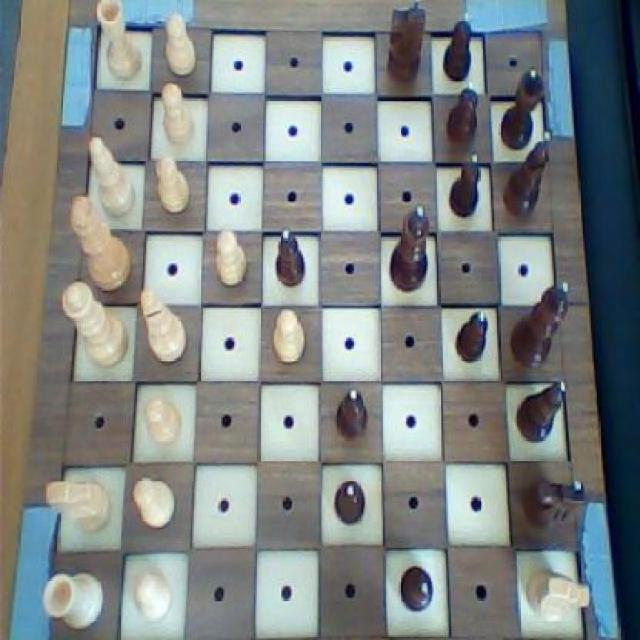bishop: (501, 125, 557, 219), (500, 65, 552, 152), (515, 374, 571, 445)
black-bishop: (506, 277, 572, 376)
black-king: (520, 471, 587, 538), (383, 0, 429, 91)
black-knight: (438, 6, 476, 87), (443, 78, 482, 151), (268, 224, 308, 292), (451, 306, 494, 368), (331, 385, 374, 446), (448, 151, 484, 220), (394, 561, 438, 614), (332, 476, 368, 524)
black-pawn: (390, 203, 436, 296)
black-rook: (86, 132, 139, 222), (137, 286, 191, 369)
white-bishop: (66, 192, 132, 298)
white-king: (42, 468, 112, 538), (520, 562, 593, 629)
white-knight: (125, 475, 182, 534), (158, 78, 200, 152), (129, 563, 177, 627), (269, 305, 313, 372), (211, 226, 251, 297), (140, 392, 186, 453), (152, 150, 192, 218), (160, 10, 200, 78)
white-pawn: (58, 277, 130, 372)
white-queen: (89, 0, 145, 85), (40, 566, 106, 635)
